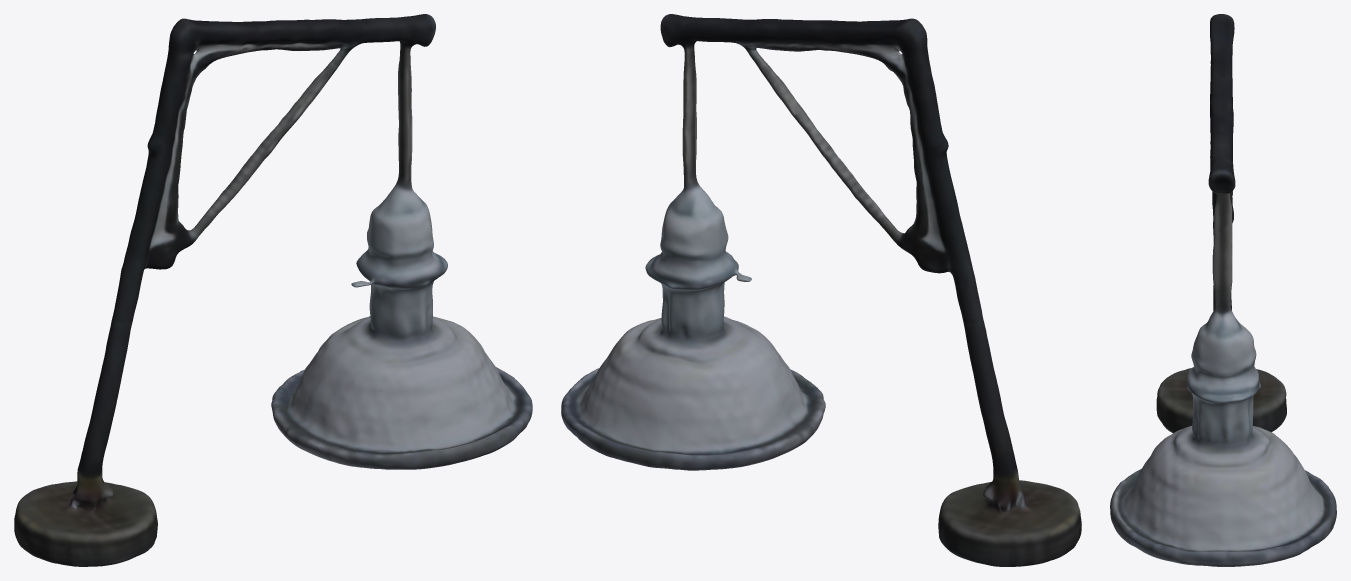
File: 5aaa21facaac_lamp__3d_asset_0_gl.fbx
3 views of the same model, side by side, from view 1: azimuth 30°, elevation 25°; view 2: azimuth 150°, elevation 25°; view 3: azimuth 270°, elevation 25° (orthographic). The views are drawn at different scales.
Visible parts, largest first — view 1: high_poly; view 2: high_poly; view 3: high_poly.
Boxes of the visible parts, bbox=[...] form: high_poly: bbox=[14, 14, 532, 566]; high_poly: bbox=[561, 14, 1081, 566]; high_poly: bbox=[1110, 14, 1336, 566].
Size of the model in its own units: 100 by 96.44 by 44.23.
